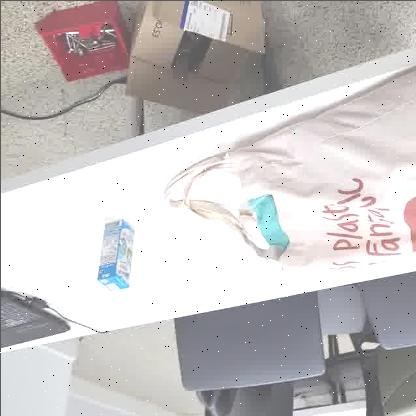Others: (92, 207, 138, 297)
